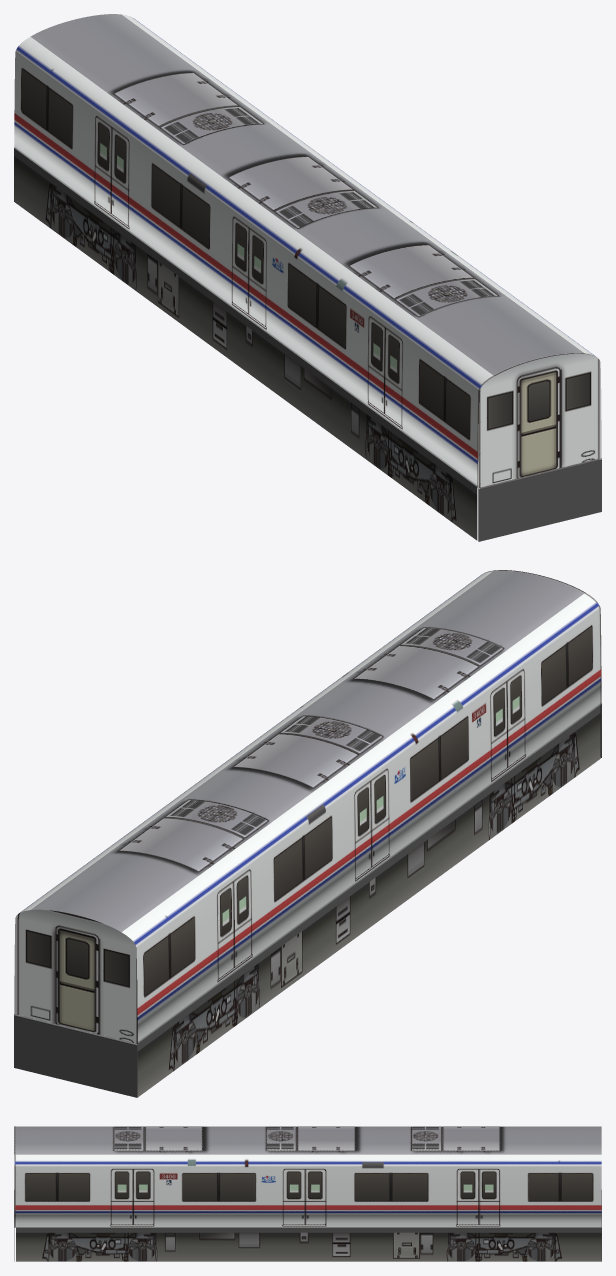
The model's file is car1.glb.
3 renders of one model, top to bottom at view 1: azimuth 30°, elevation 25°; view 2: azimuth 150°, elevation 25°; view 3: azimuth 270°, elevation 25°, orthographic. The views are drawn at different scales.
Parts seen in each view (by area): view 1: keisei-3400-car1; view 2: keisei-3400-car1; view 3: keisei-3400-car1.
Boxes of the visible parts, x1,y1,x2,y2 form: keisei-3400-car1: (14, 14, 601, 541); keisei-3400-car1: (14, 570, 601, 1097); keisei-3400-car1: (14, 1126, 601, 1261).
Bounding box in the file's own units: 2.76 × 3.59 × 18.03.
Materials: 9 (8 with a texture image).
